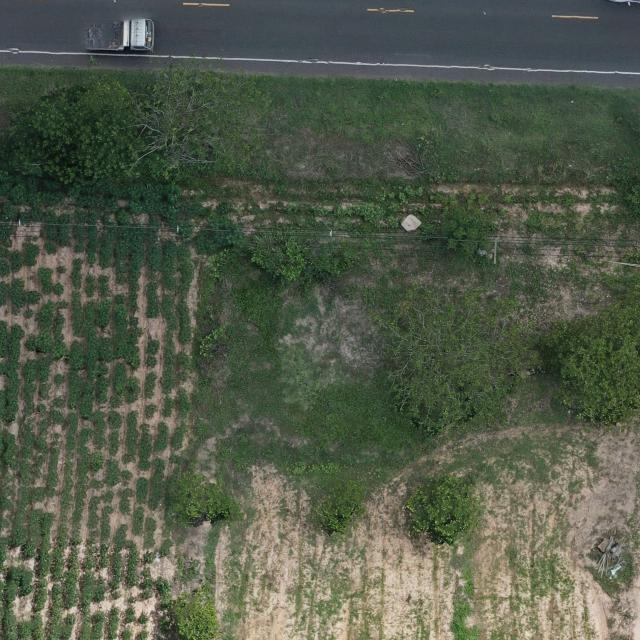Tree: (374, 284, 547, 438), (6, 77, 147, 189), (128, 53, 251, 175), (551, 302, 640, 428), (403, 472, 487, 548), (167, 470, 245, 526), (169, 585, 220, 640), (318, 481, 365, 537)
